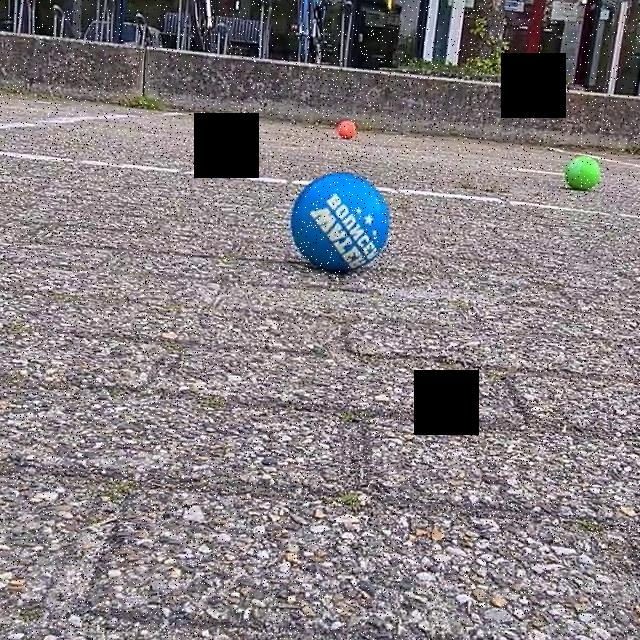ball: (562, 150, 604, 194), (335, 118, 359, 141)
